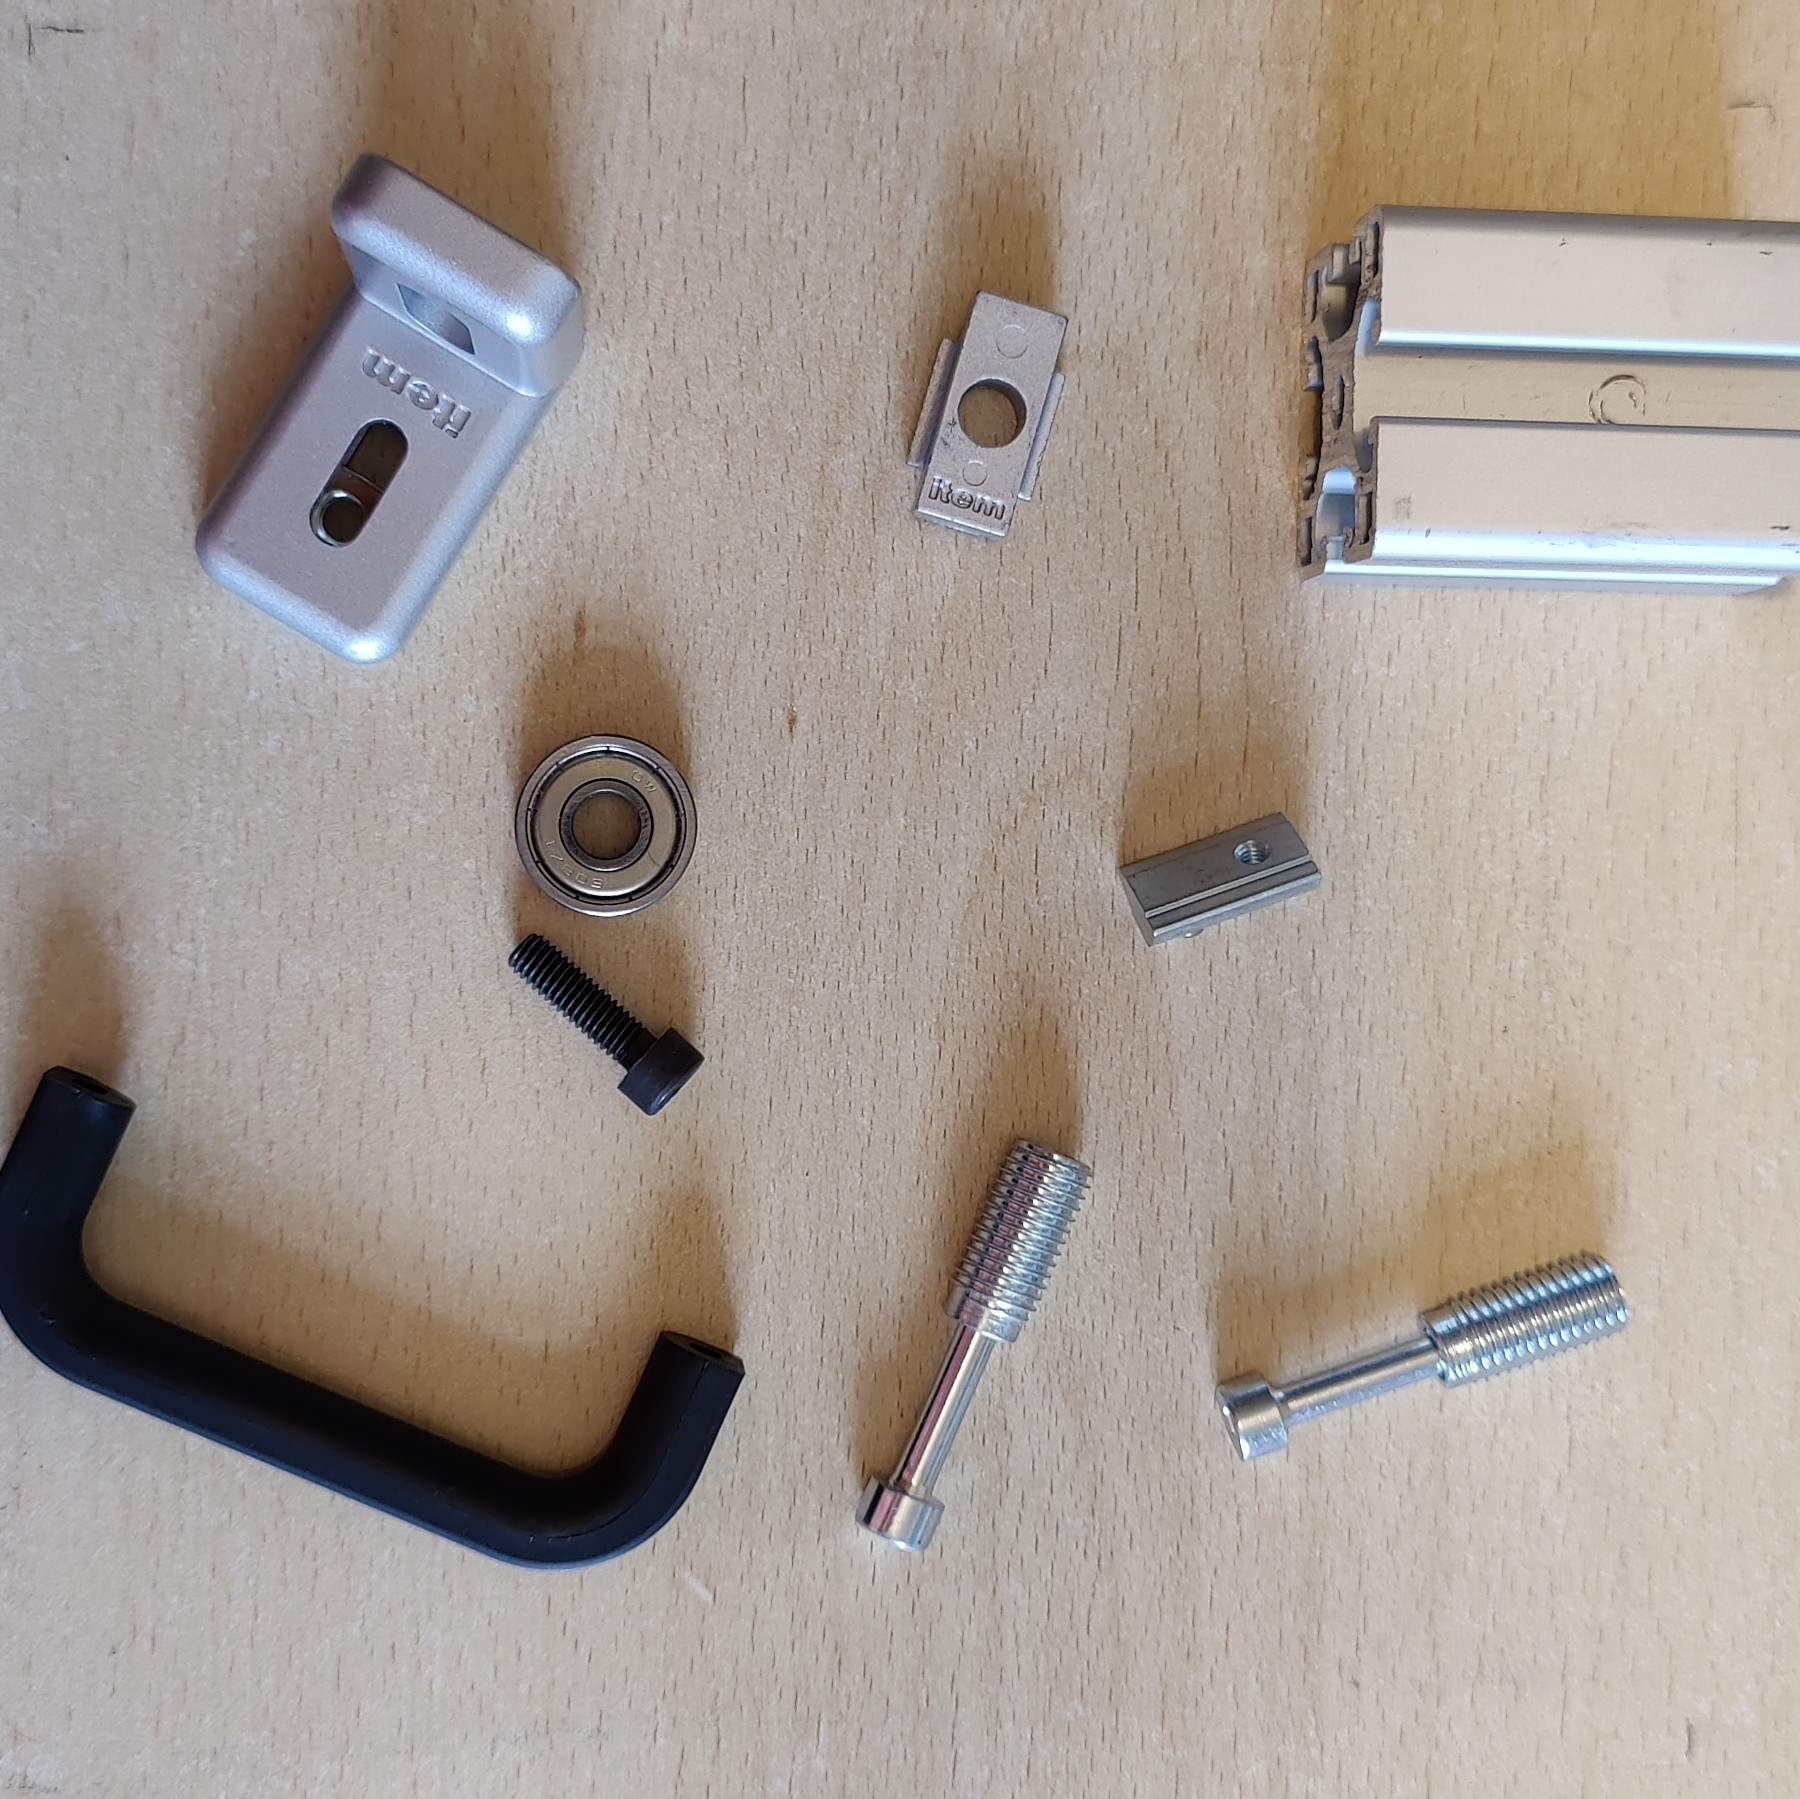Aluminium Extension: (1293, 199, 1800, 598)
Ball Bearing: (512, 731, 698, 921)
Multiwinkel: (193, 150, 588, 667)
Pull Handle: (2, 1063, 748, 1572)
Shoulder Socket Head Cap Screw: (851, 1133, 1097, 1558), (1214, 1245, 1634, 1463)
Socket Head Cap Screw: (502, 926, 708, 1117)
T Nut Square: (904, 288, 1074, 542)
T Spring Nut: (1117, 799, 1324, 952)
